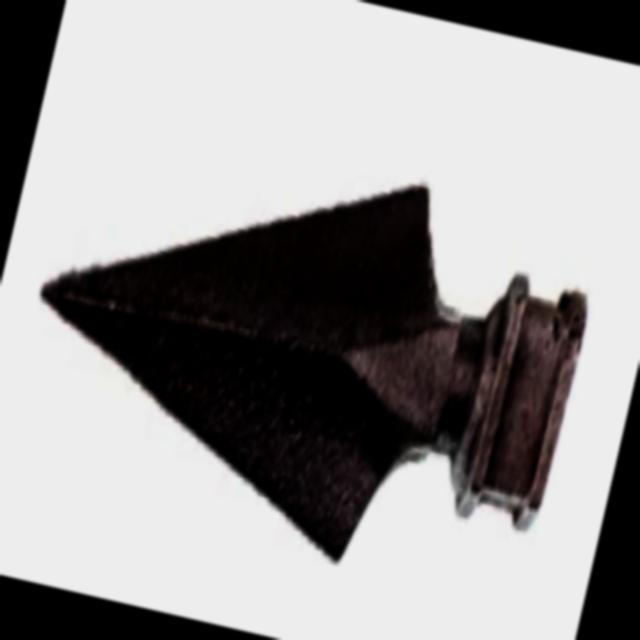spear: (0, 75, 626, 623)
